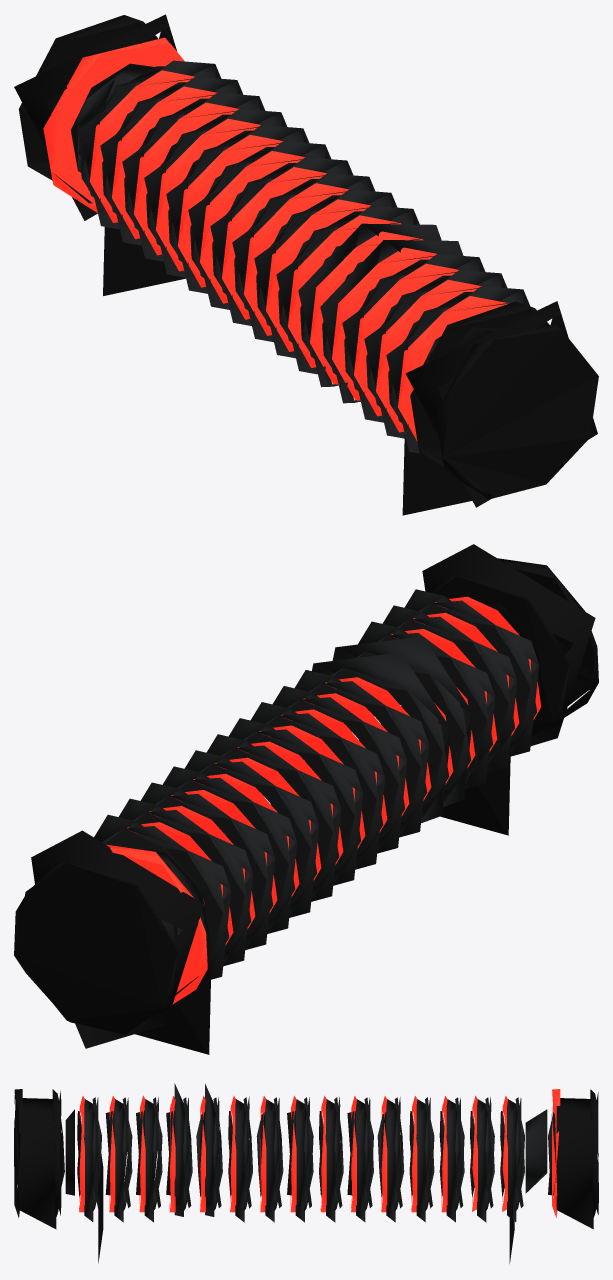
File: module_0_energy_coil.glb
3 views of the same model, one above another, from view 1: azimuth 30°, elevation 25°; view 2: azimuth 150°, elevation 25°; view 3: azimuth 270°, elevation 25° (orthographic). The views are drawn at different scales.
Visible parts, largest first — view 1: module_0_energy_coil; view 2: module_0_energy_coil; view 3: module_0_energy_coil.
Part boxes in pixels (<box>): module_0_energy_coil: <box>14,14,598,515</box>; module_0_energy_coil: <box>14,544,598,1054</box>; module_0_energy_coil: <box>14,1083,598,1263</box>.
Size of the model in its own units: 0.0287 by 0.0374 by 0.1259.
